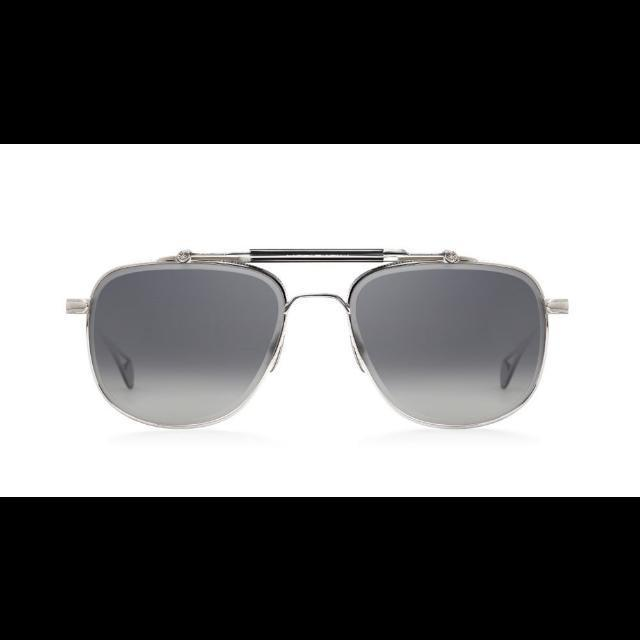glasses: (62, 246, 572, 432)
